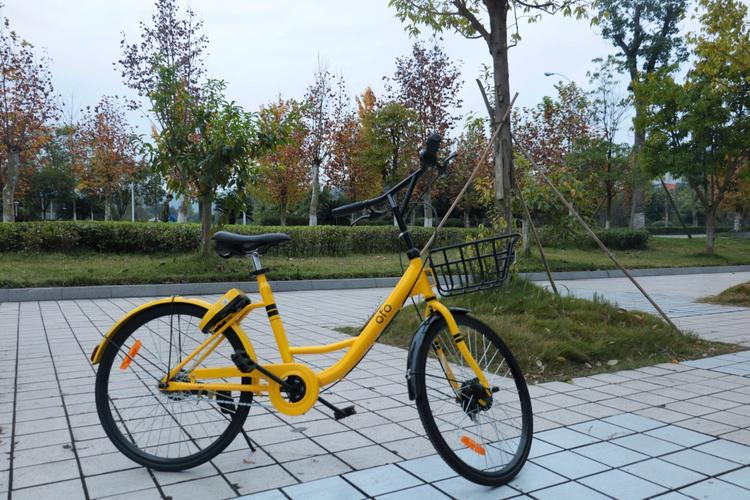单车: (84, 129, 579, 492)
